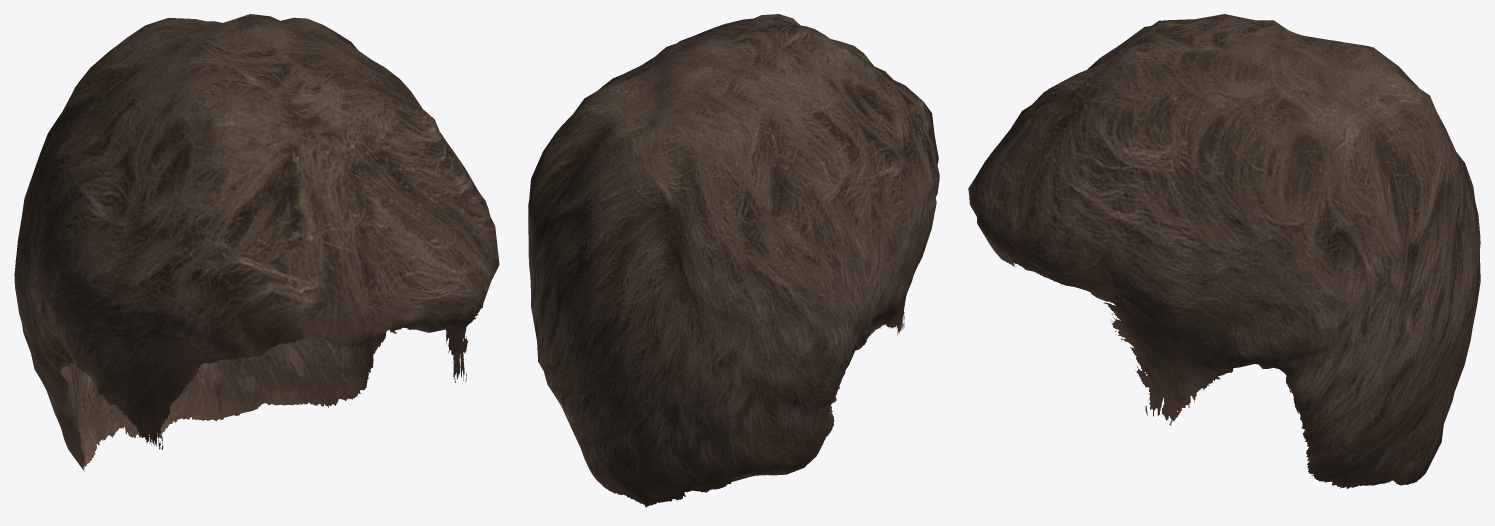
The model's file is sweep.glb.
3 renders of one model, left to right at view 1: azimuth 30°, elevation 25°; view 2: azimuth 150°, elevation 25°; view 3: azimuth 270°, elevation 25°, orthographic. The views are drawn at different scales.
Parts seen in each view (by area): view 1: Loose; view 2: Loose; view 3: Loose.
Part boxes in pixels (<box>): Loose: <box>14,14,499,471</box>; Loose: <box>528,14,939,507</box>; Loose: <box>968,14,1480,488</box>.
Size of the model in its own units: 0.1738 by 0.2034 by 0.216.
Materials: 1 (1 with a texture image).
